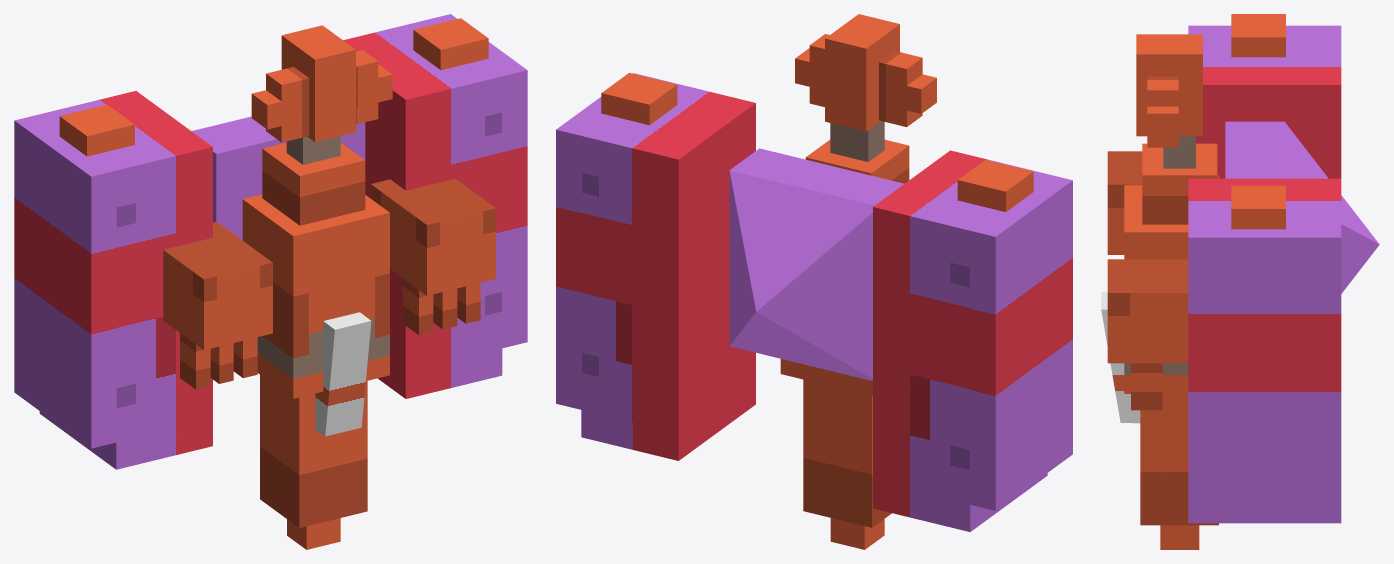
The model's file is EnemyShip01.fbx.
3 views of the same model, side by side, from view 1: azimuth 30°, elevation 25°; view 2: azimuth 150°, elevation 25°; view 3: azimuth 270°, elevation 25° (orthographic).
Parts seen in each view (by area): view 1: Supply Ship; view 2: Supply Ship; view 3: Supply Ship.
Part boxes in pixels (bbox=[...]): Supply Ship: bbox=[14, 14, 527, 549]; Supply Ship: bbox=[556, 14, 1072, 549]; Supply Ship: bbox=[1101, 14, 1379, 549].
Bounding box in the file's own units: 156 × 171 × 86.75.
1 material, 1 textured.
